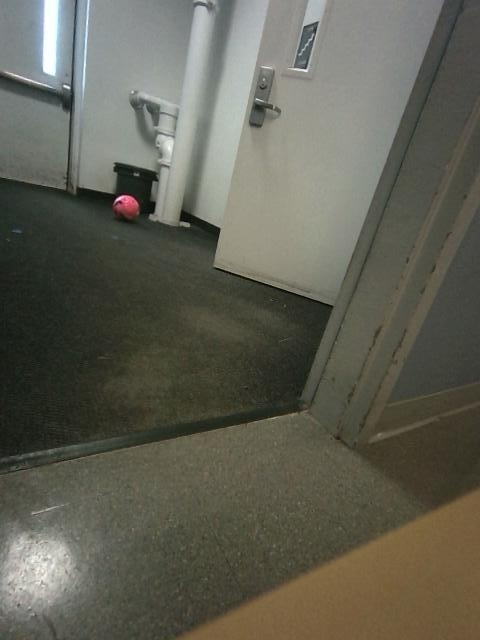ball: (112, 194, 139, 220)
